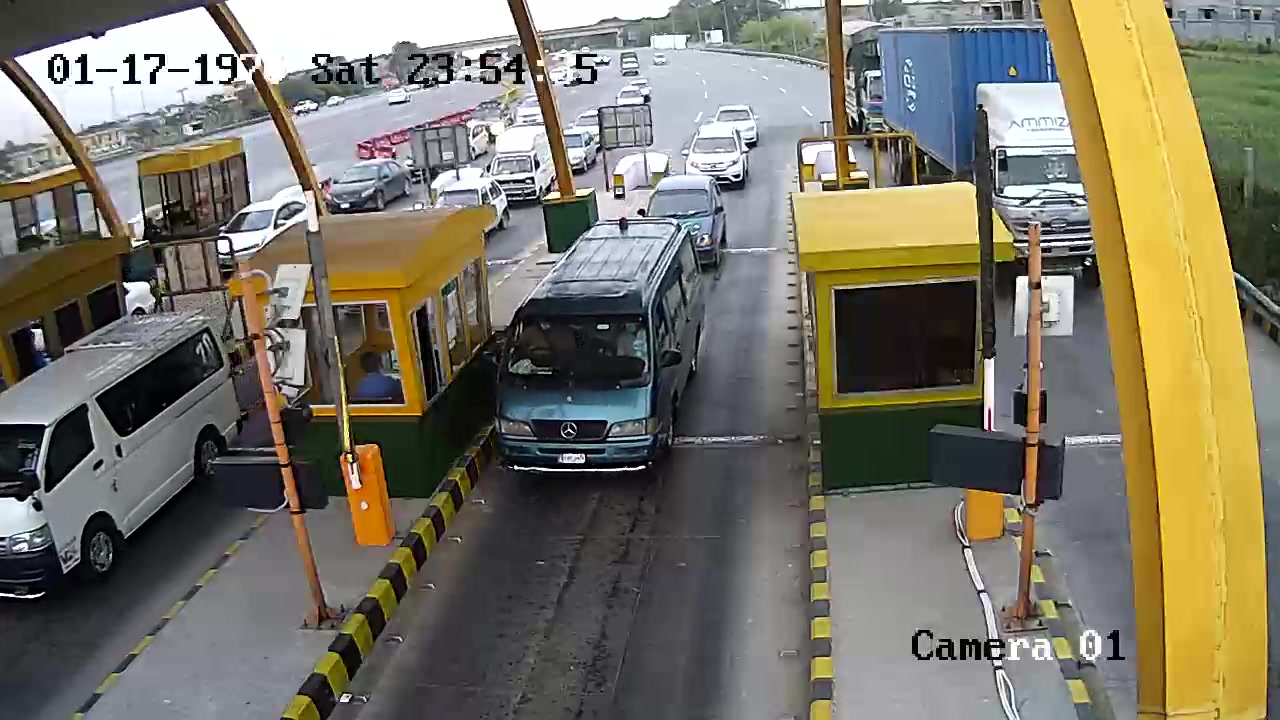F3: (483, 214, 702, 485)
